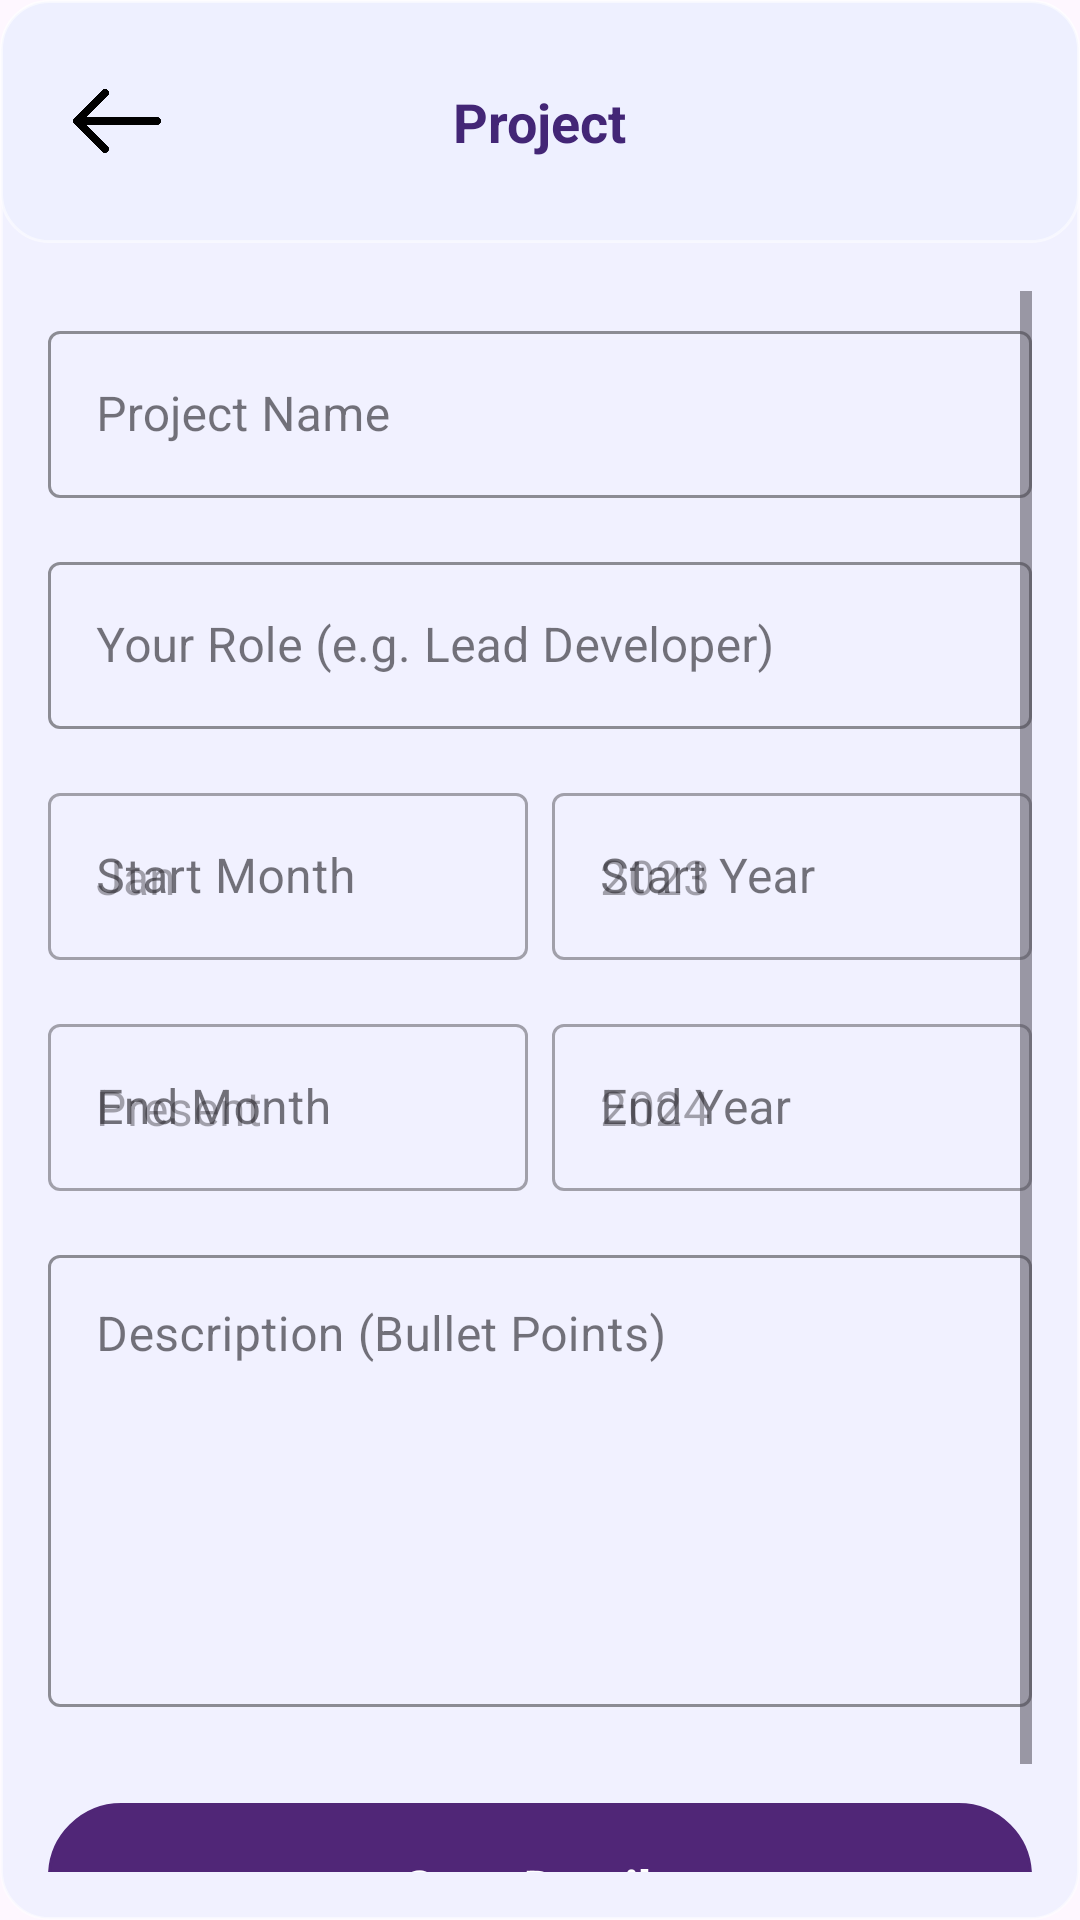

Locate icon controls on the screen. Image size 1080px×1920px, boxes as (x1, y1, x2, y2).
back: (73, 89, 161, 153)
